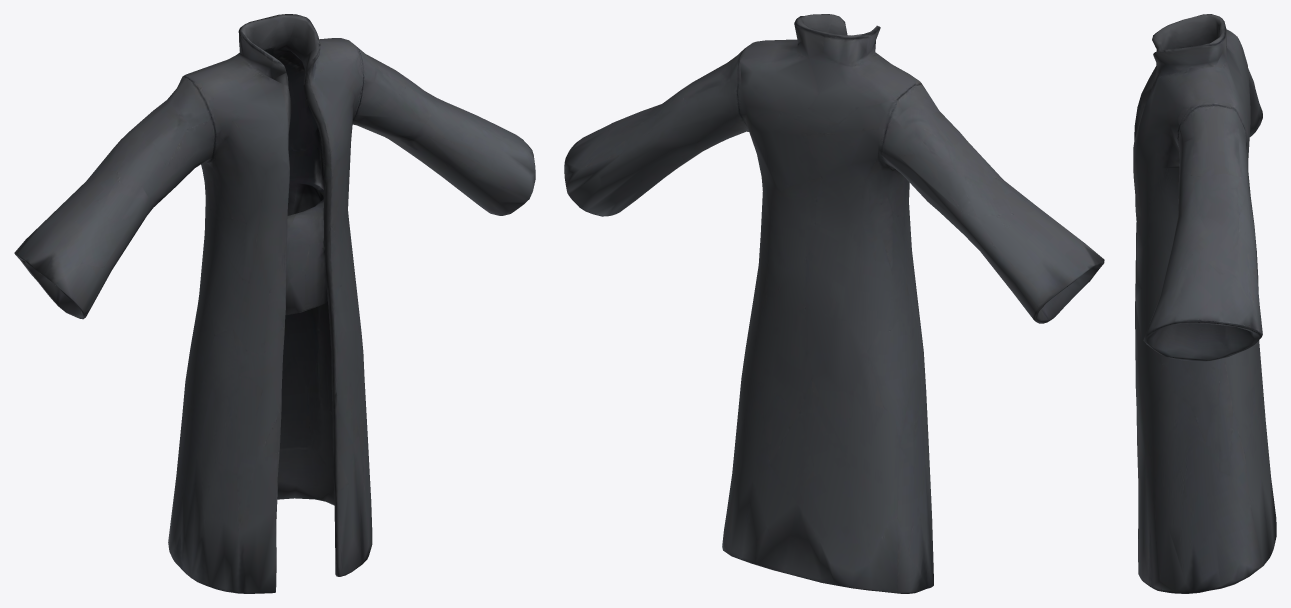
File: coat-black.opt.glb
3 views of the same model, side by side, from view 1: azimuth 30°, elevation 25°; view 2: azimuth 150°, elevation 25°; view 3: azimuth 270°, elevation 25° (orthographic). The views are drawn at different scales.
Bounding box in the file's own units: 1.94 × 2 × 0.4895.
1 material, 1 textured.
